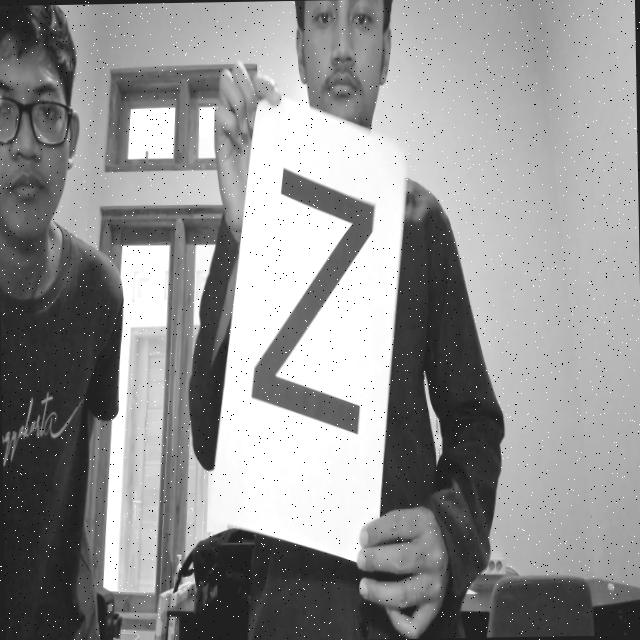z: (244, 156, 380, 442)
